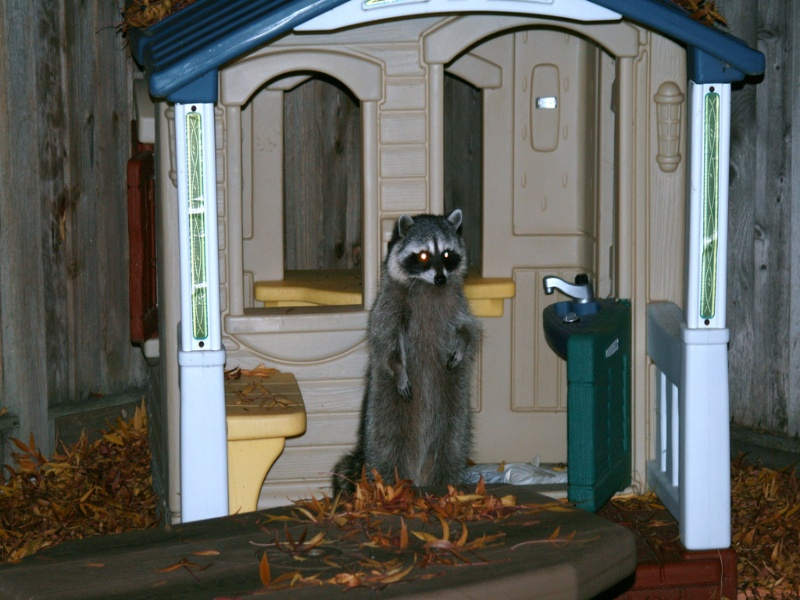raccoon: (328, 206, 485, 500)
